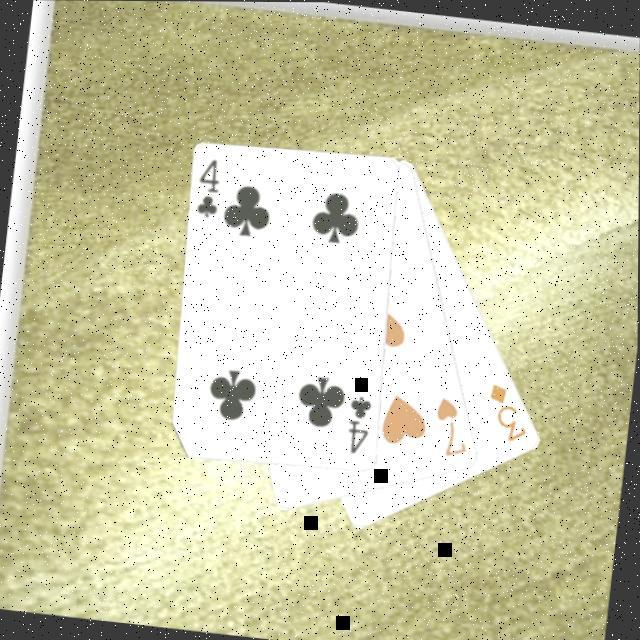3D: (482, 379, 536, 446)
4C: (192, 155, 227, 224), (342, 392, 377, 459)
7H: (429, 393, 477, 463)
